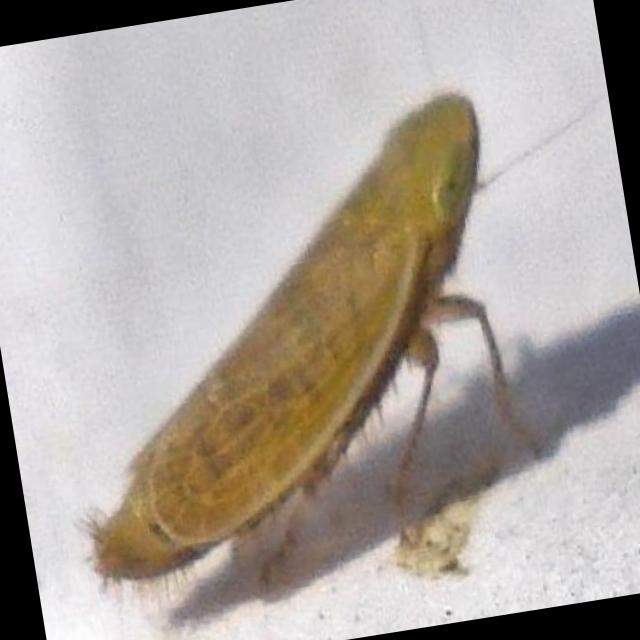green-leafhopper: (90, 87, 545, 590)
